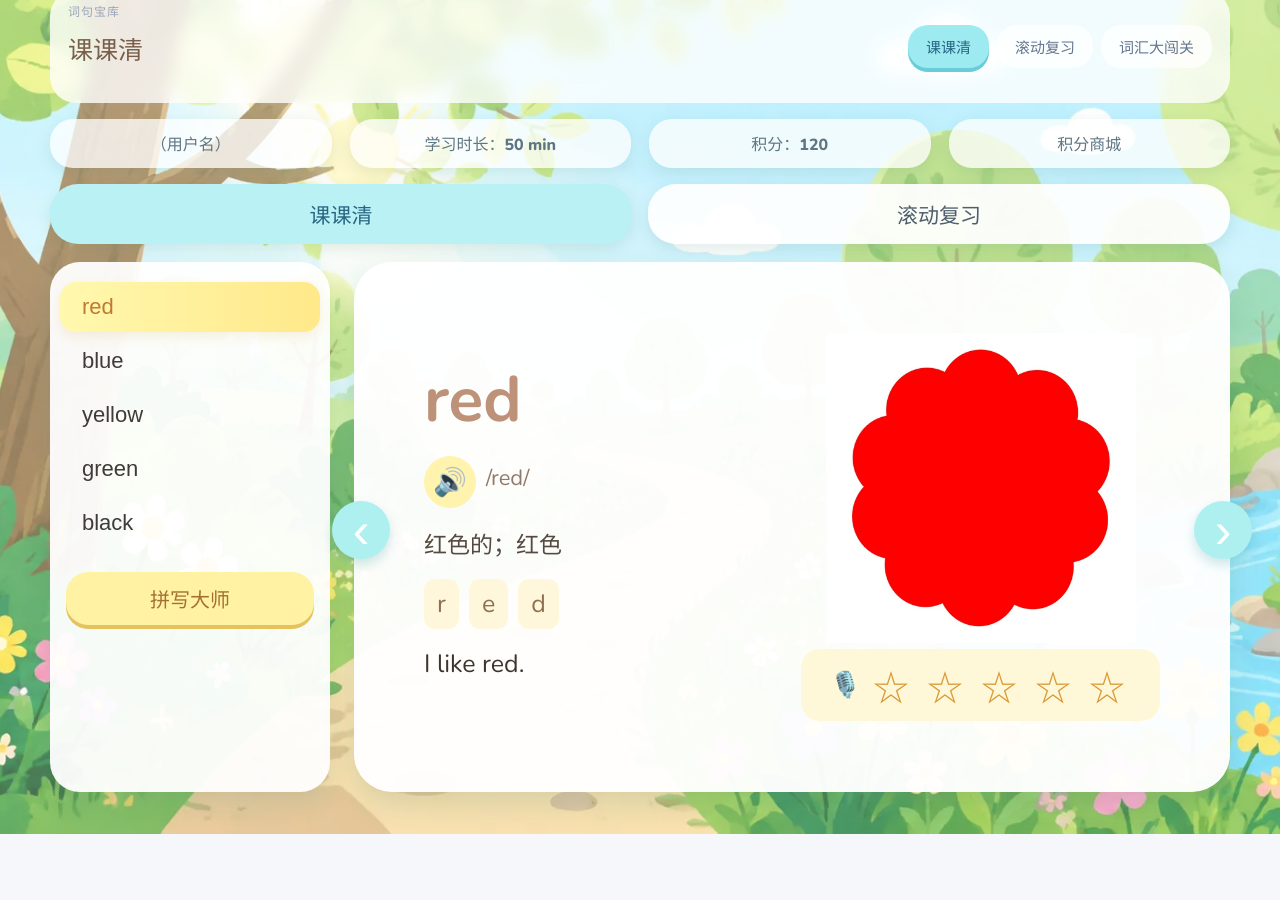
VocabularyPage storybook view › opens the matching game from the vocabulary challenge lobby
Click the button "词汇大闯关".
click(1156, 46)  # box [1101,25,1212,68]
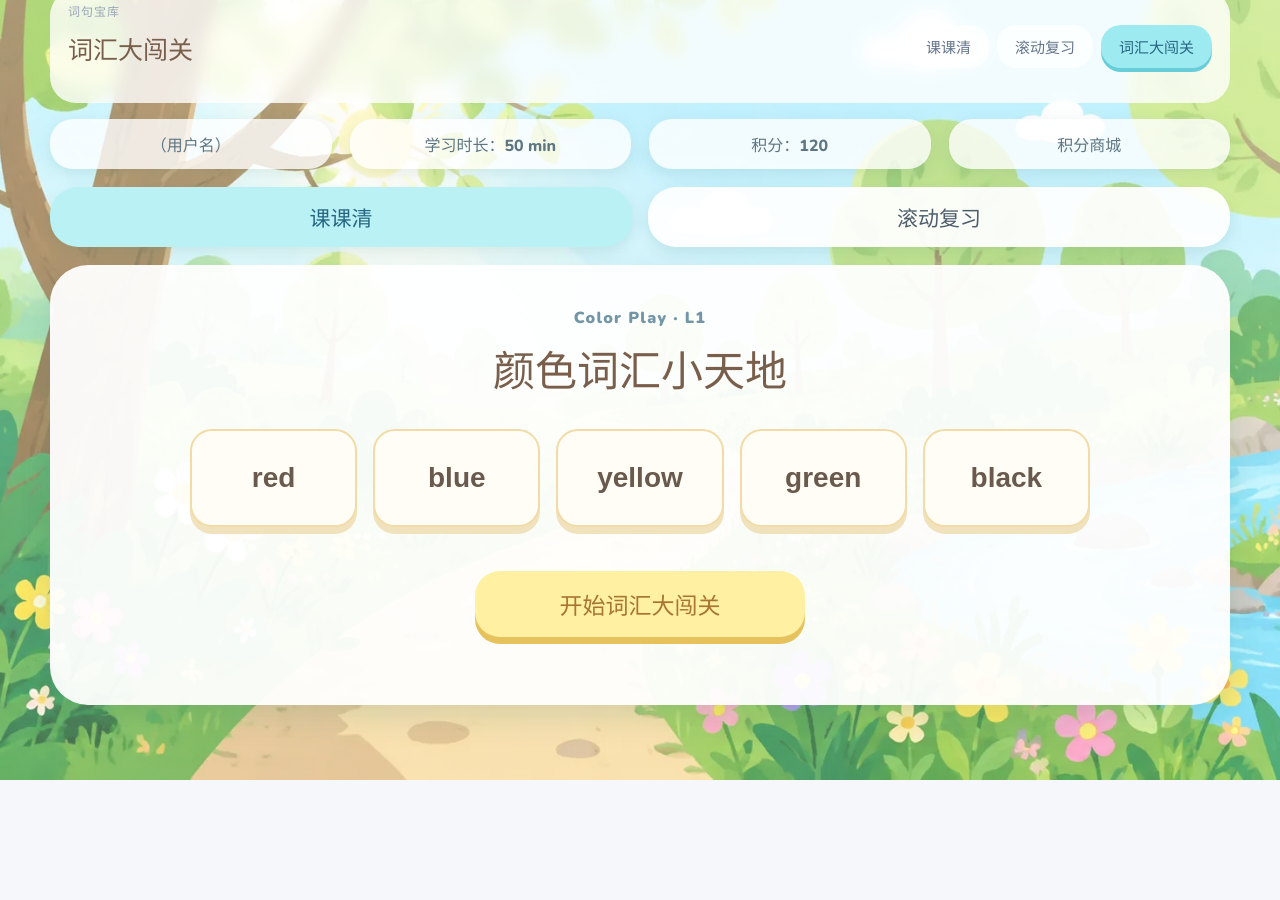
Expected: the element with test id "vocabulary-challenge-lobby" is shown
Expected: the button "开始词汇大闯关" is shown
Click the button "开始词汇大闯关".
click(640, 604)  # box [475,571,805,637]
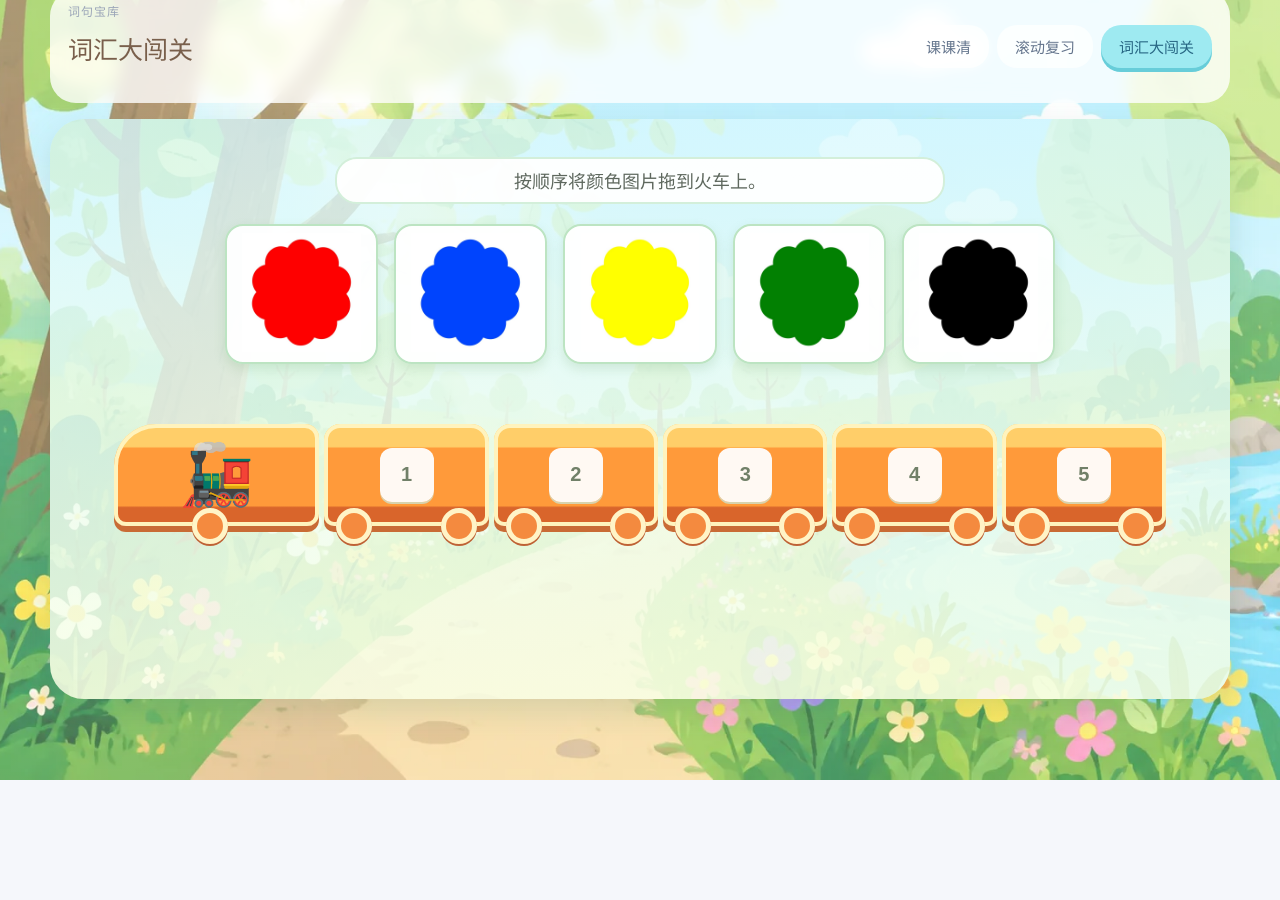
Expected: the element with test id "undersea-match" is shown, [50,119,1230,699]
